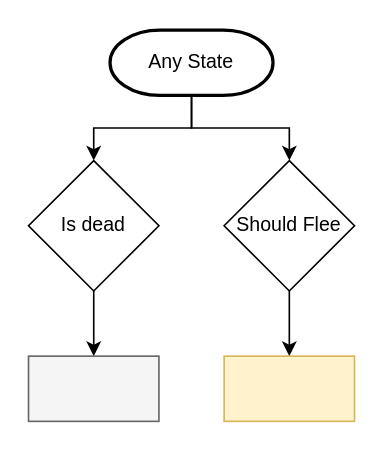
Some shapes in this 383 by 450 pixel diagram are drawn without their labels. The centre of each missing label's shape, as x and y in pixels:
"Flee" goes at (288,388).
"Respawn" goes at (93,388).
